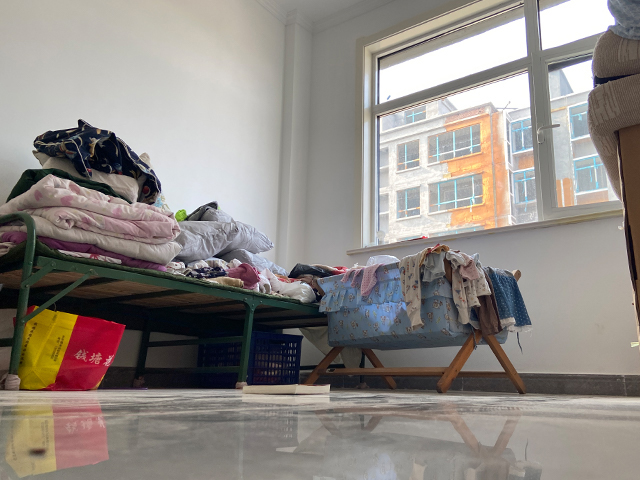bed: (1, 212, 319, 389)
book: (242, 381, 331, 396)
stool: (306, 242, 533, 395)
